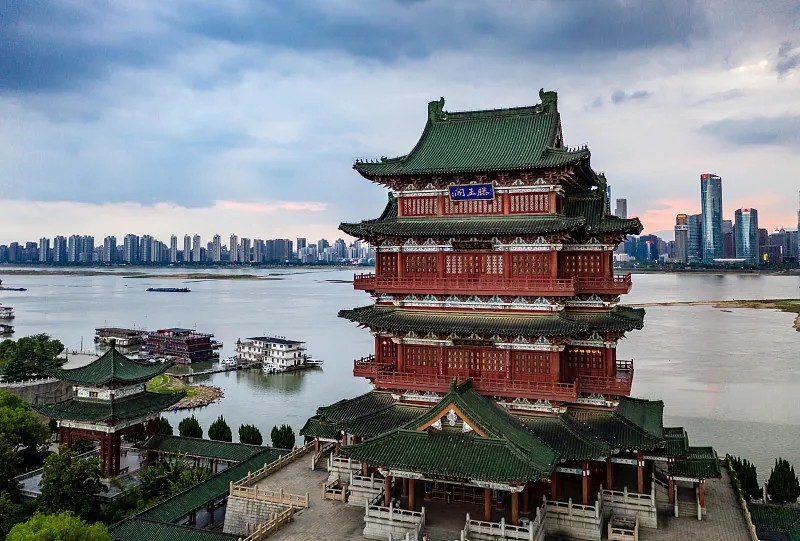Teng: (299, 88, 723, 522)
